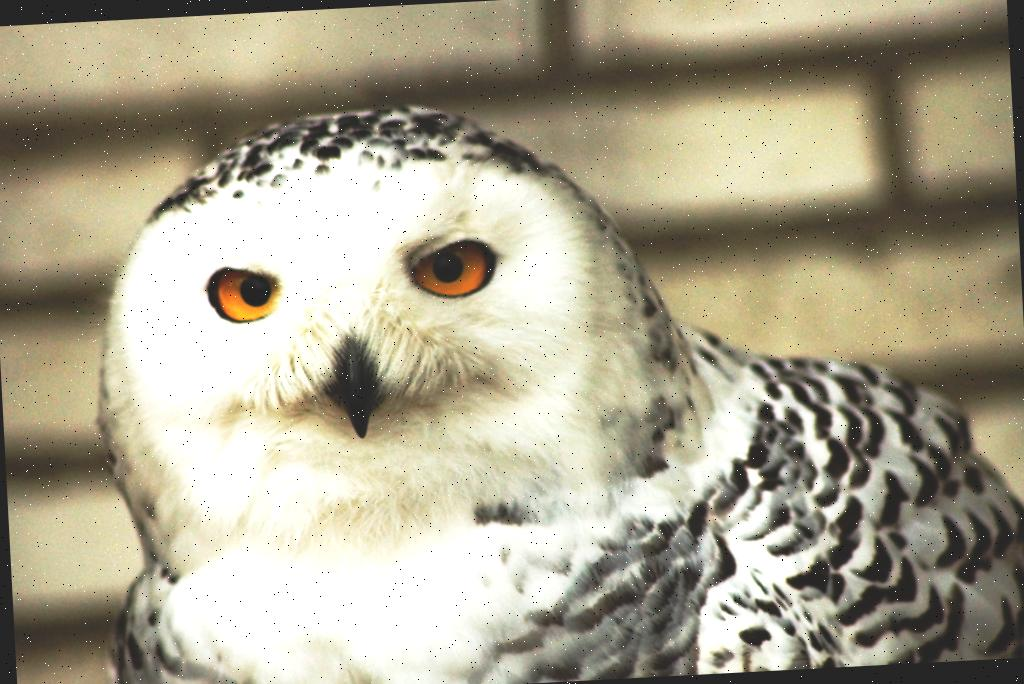Owl: (71, 72, 1024, 684)
